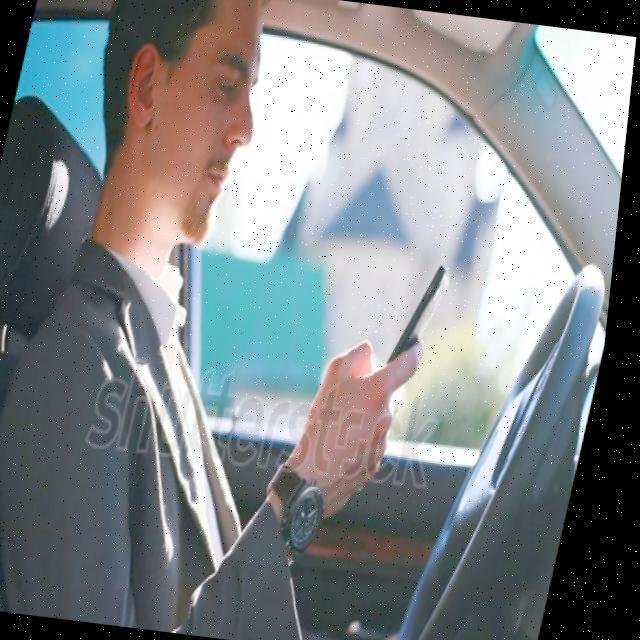PhoneCall: (389, 256, 461, 392)
